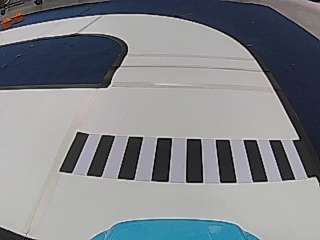CrossWalk: (58, 130, 305, 185)
